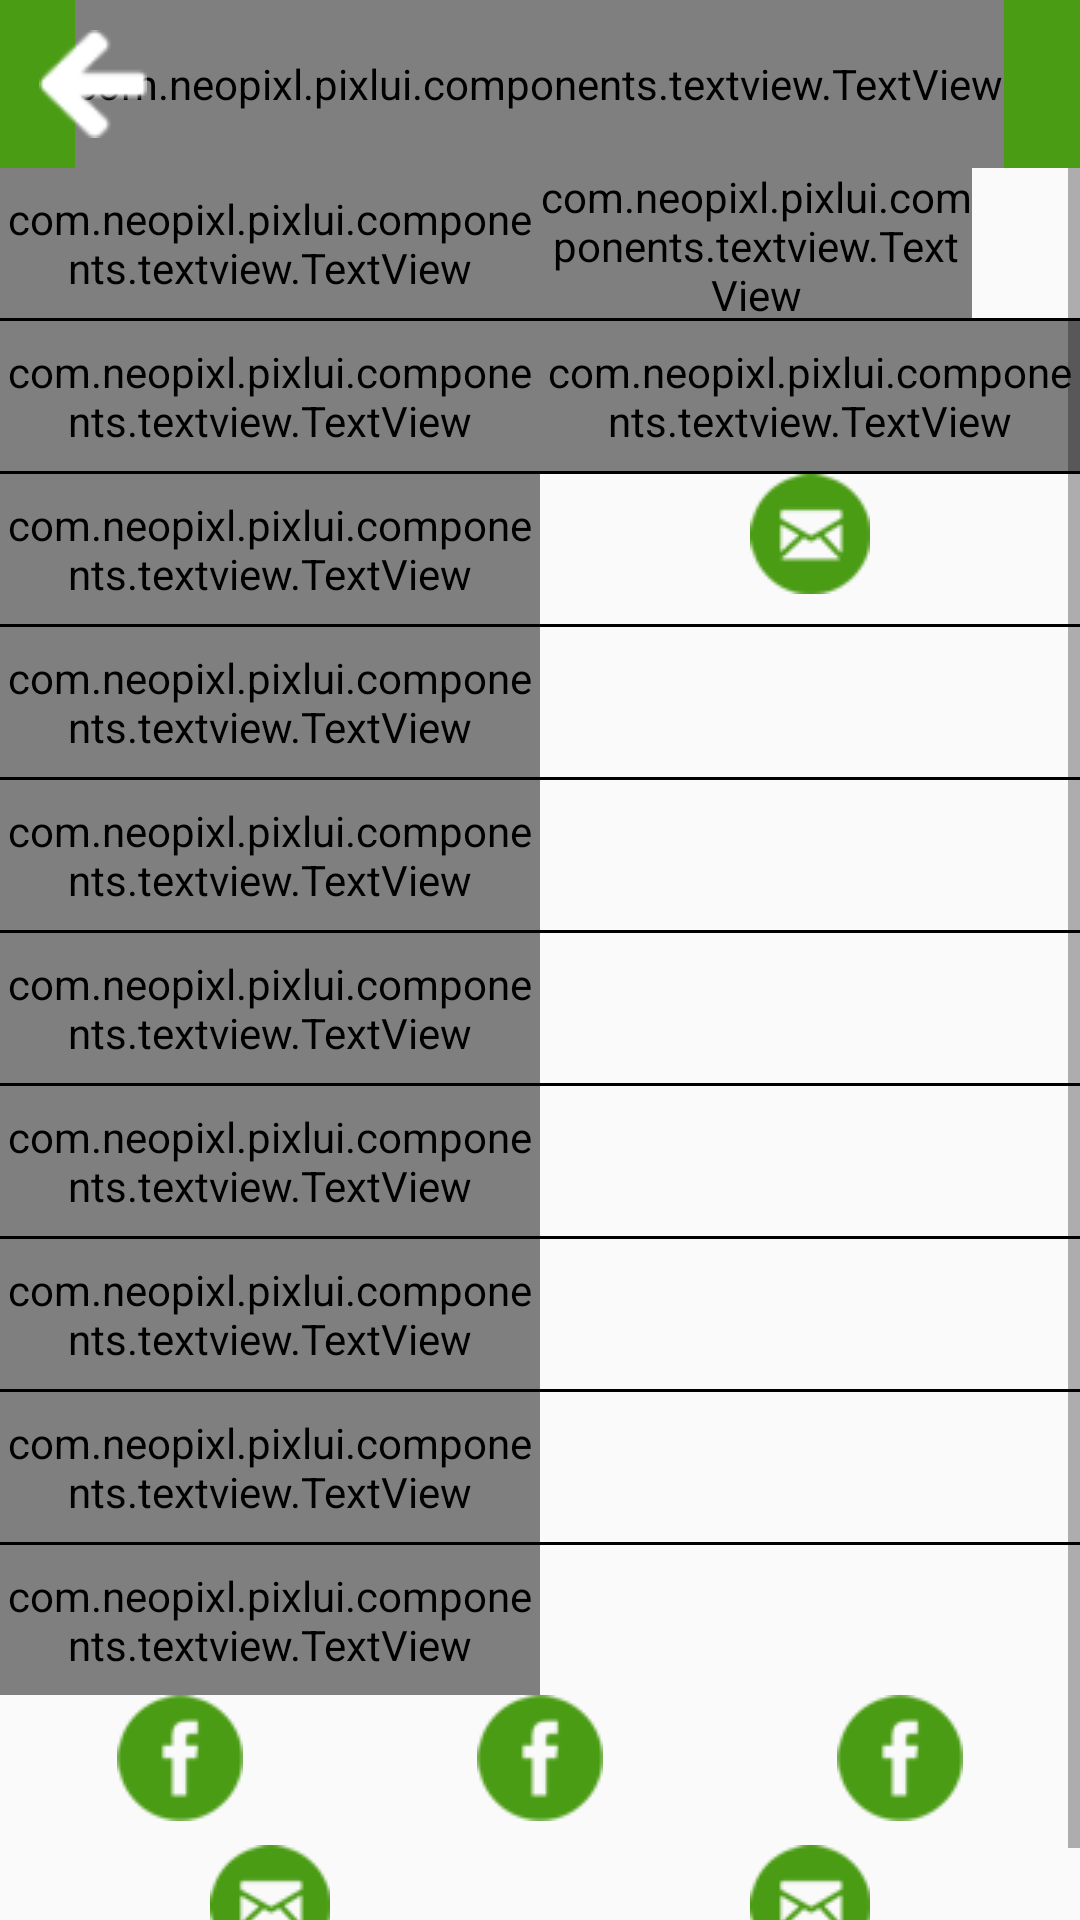

Point at icon controls on the screen. Image size 1080×1920, points as (x,y).
back: (93,84)
